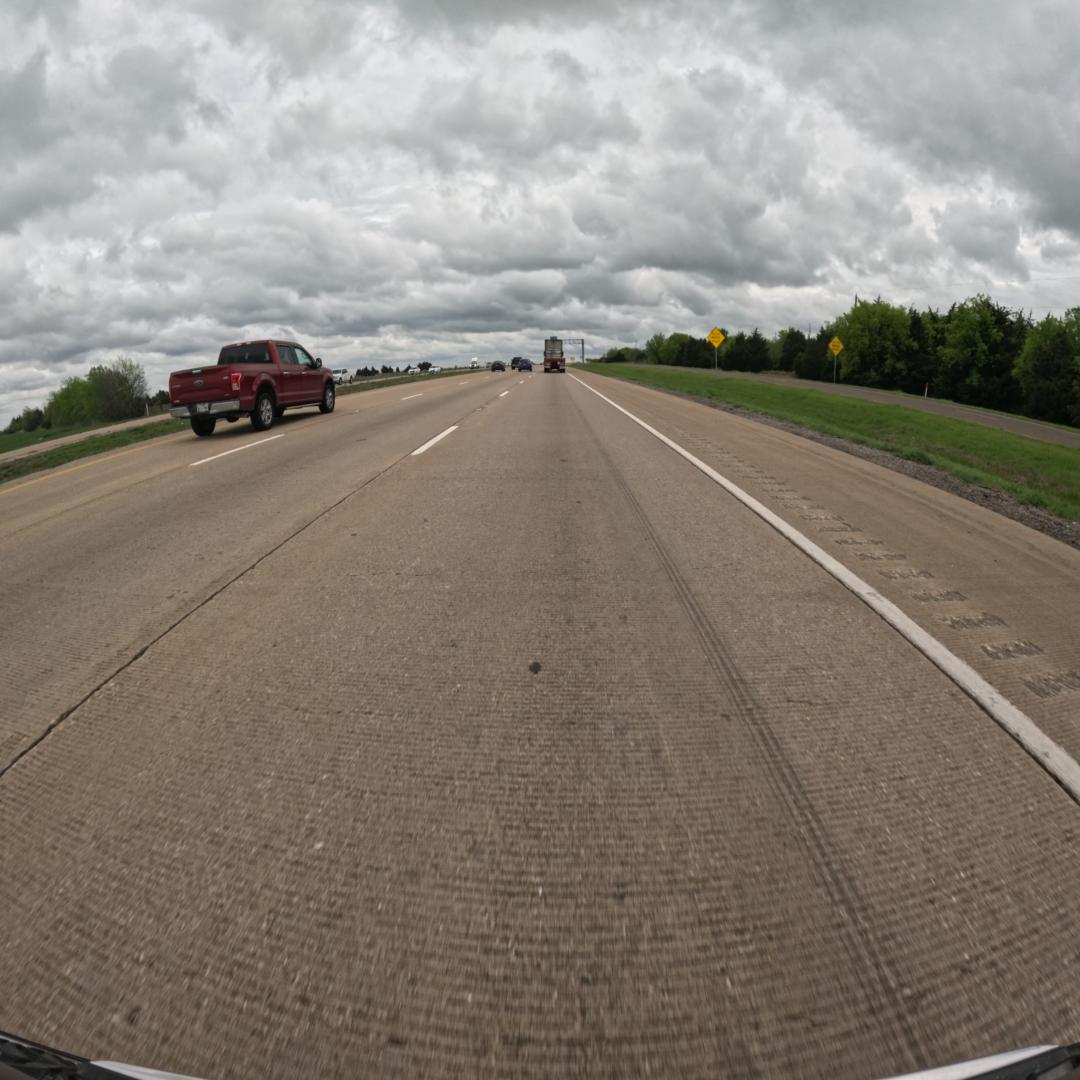lane0: (0, 376, 1080, 1077)
lane1: (0, 374, 518, 775)
